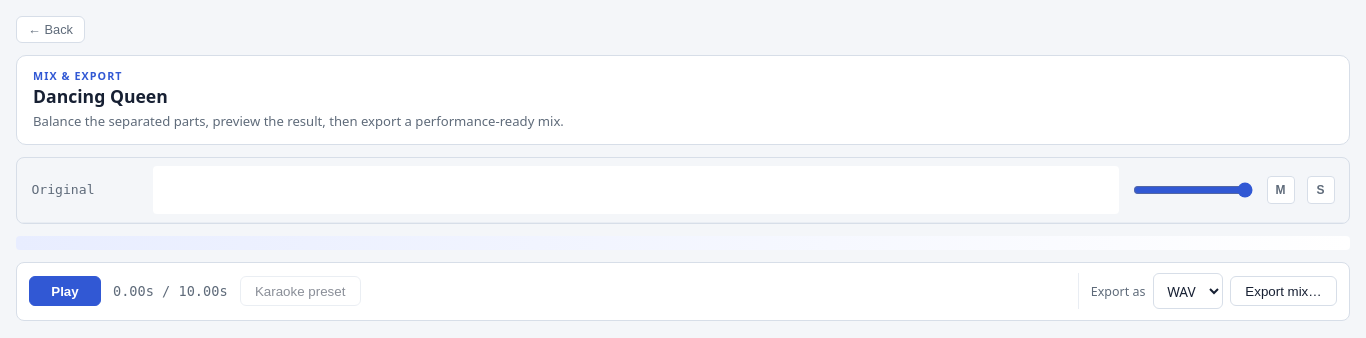
Test case: Mixer › shows a playhead line at the correct left position while playing, and none while paused
The width and height of the screenshot is (1366, 338).
Expected: the text "Original" is shown, [31,182,94,197]
Step 1. Click the button "Play" → {"x": 65, "y": 291}, box [29,276,101,306]
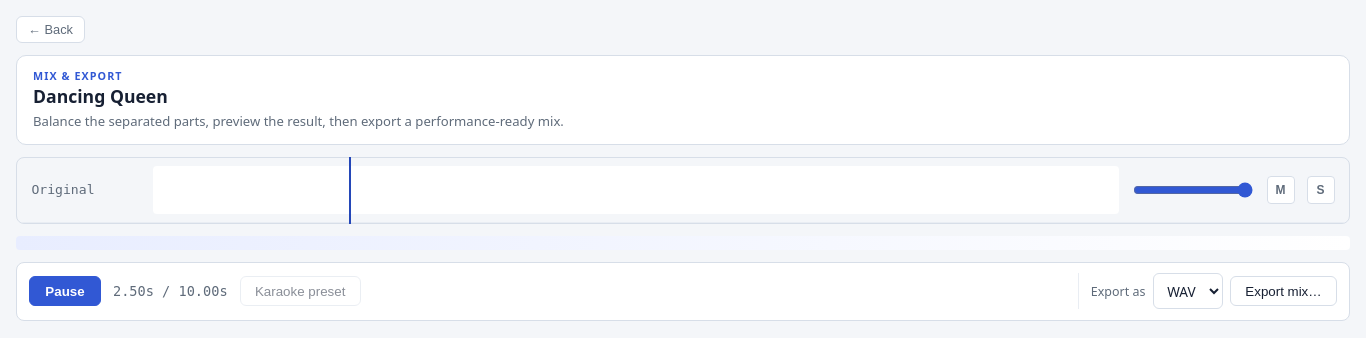
Result: the element with class "mixer-playhead" is shown at [348,157,350,224]
Step 2. Click the button "Pause" → {"x": 65, "y": 291}, box [29,276,101,306]
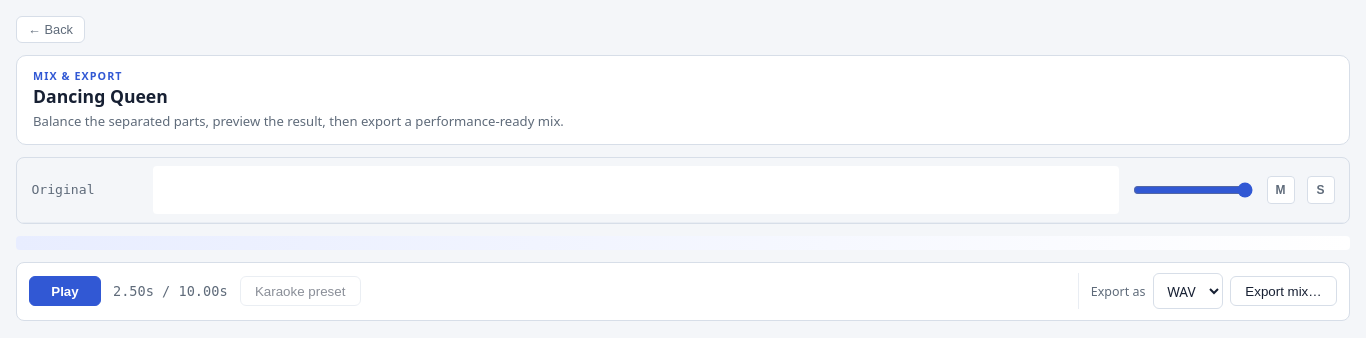
Result: the element with class "mixer-playhead" is gone
